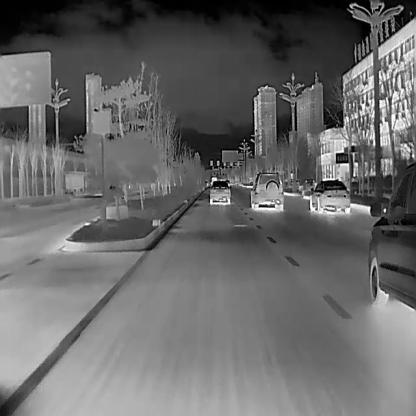car: (368, 162, 415, 310), (309, 179, 350, 213), (250, 170, 284, 208), (209, 180, 230, 204)
